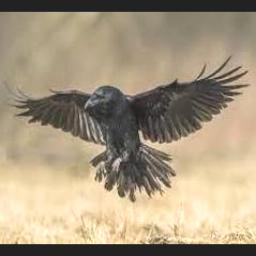Crow: (2, 54, 250, 201)
